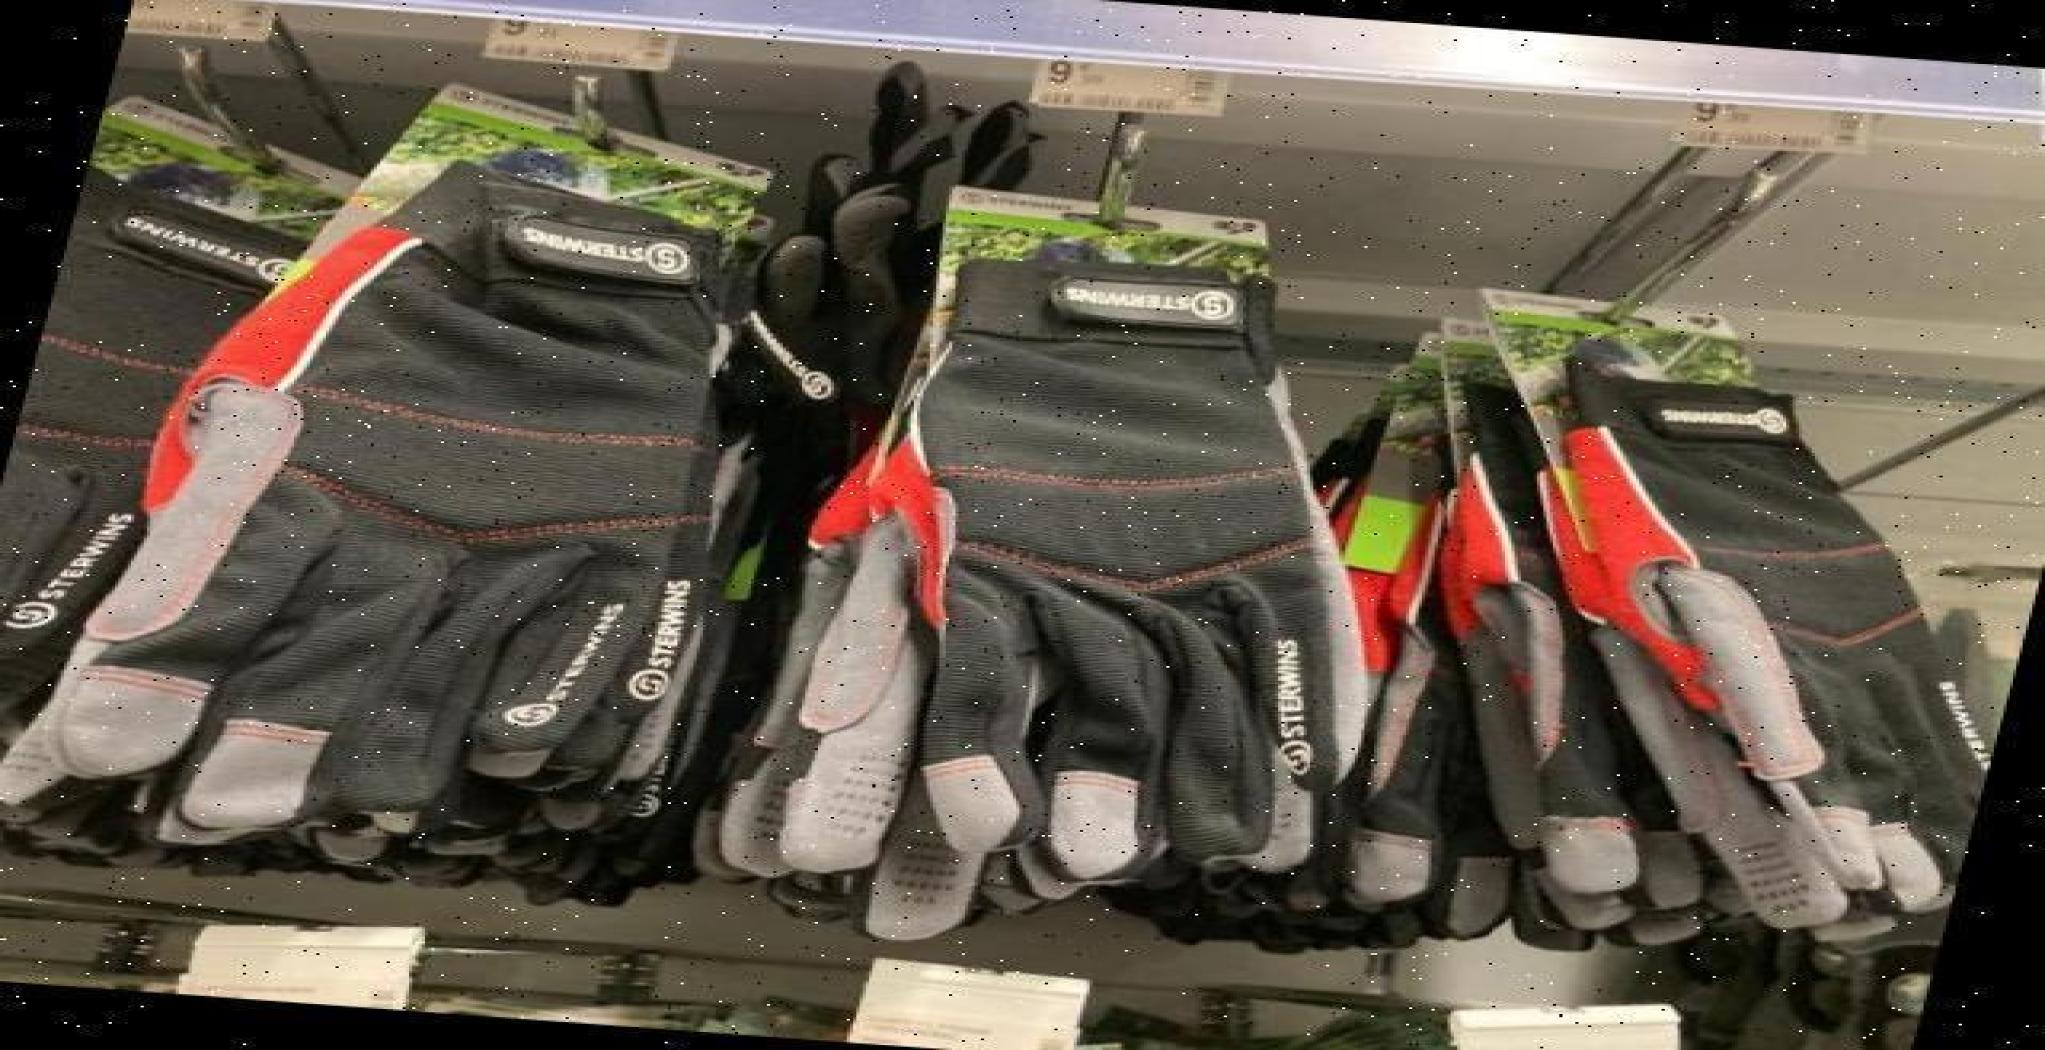gloved: (273, 173, 747, 786)
